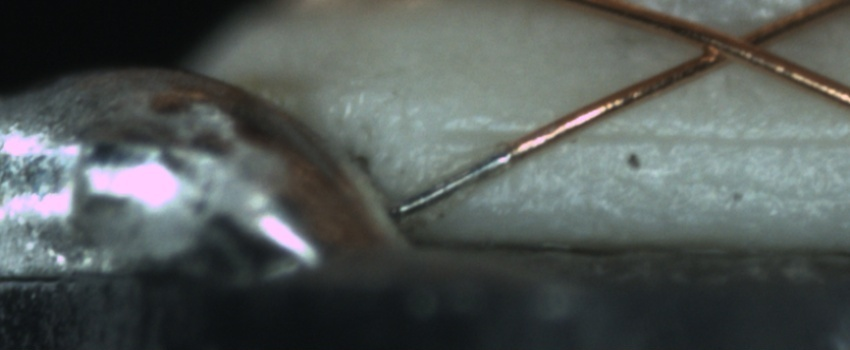CL: (685, 18, 782, 73)
DL: (442, 103, 850, 161)
TS: (391, 150, 514, 214)
TTCW: (393, 129, 553, 214)
